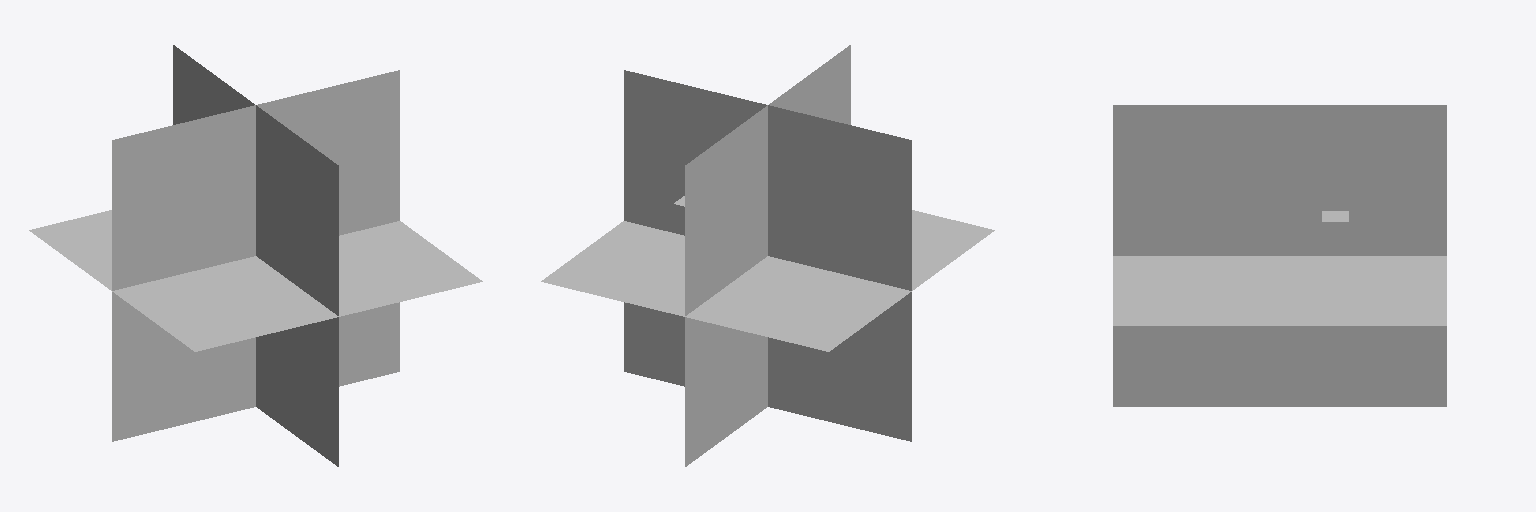
Rendered from treeTest.obj.
3 views of the same model, side by side, from view 1: azimuth 30°, elevation 25°; view 2: azimuth 150°, elevation 25°; view 3: azimuth 270°, elevation 25° (orthographic).
Parts seen in each view (by area): view 1: Plane.001, Plane, Plane.002; view 2: Plane.001, Plane, Plane.002; view 3: Plane, Plane.002, Cube.
Boxes of the visible parts, x1,y1,x2,y2 form: Plane.001: [112, 70, 399, 441]; Plane: [173, 45, 338, 466]; Plane.002: [29, 210, 482, 351]; Plane.001: [624, 70, 911, 441]; Plane: [685, 45, 850, 466]; Plane.002: [541, 210, 994, 351]; Plane: [1113, 105, 1446, 406]; Plane.002: [1113, 256, 1446, 325]; Cube: [1322, 211, 1348, 247].
Bounding box in the file's own units: 18 × 18 × 18.